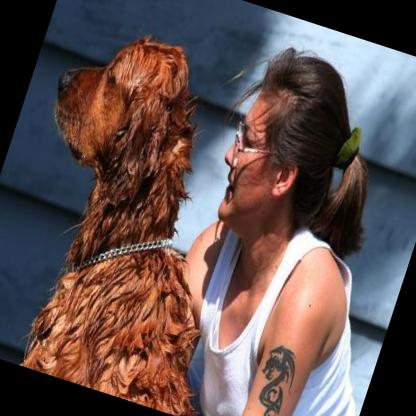Irish_setter: (0, 6, 302, 416)
